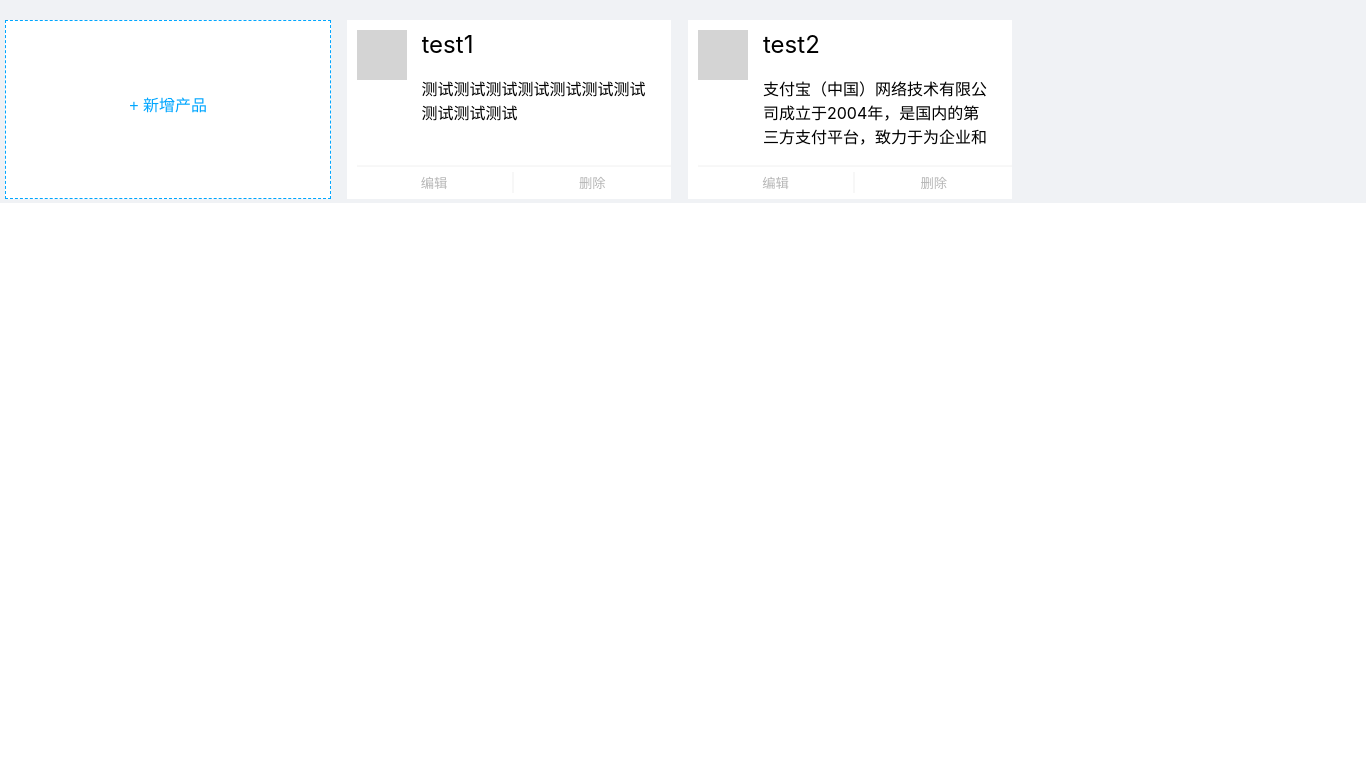
test productList component › should render add modal when click add button
This screenshot has width=1366, height=768.
Click the button with test id "add_btn". click: (168, 104)
box: top-left (129, 92), bottom-right (207, 116)
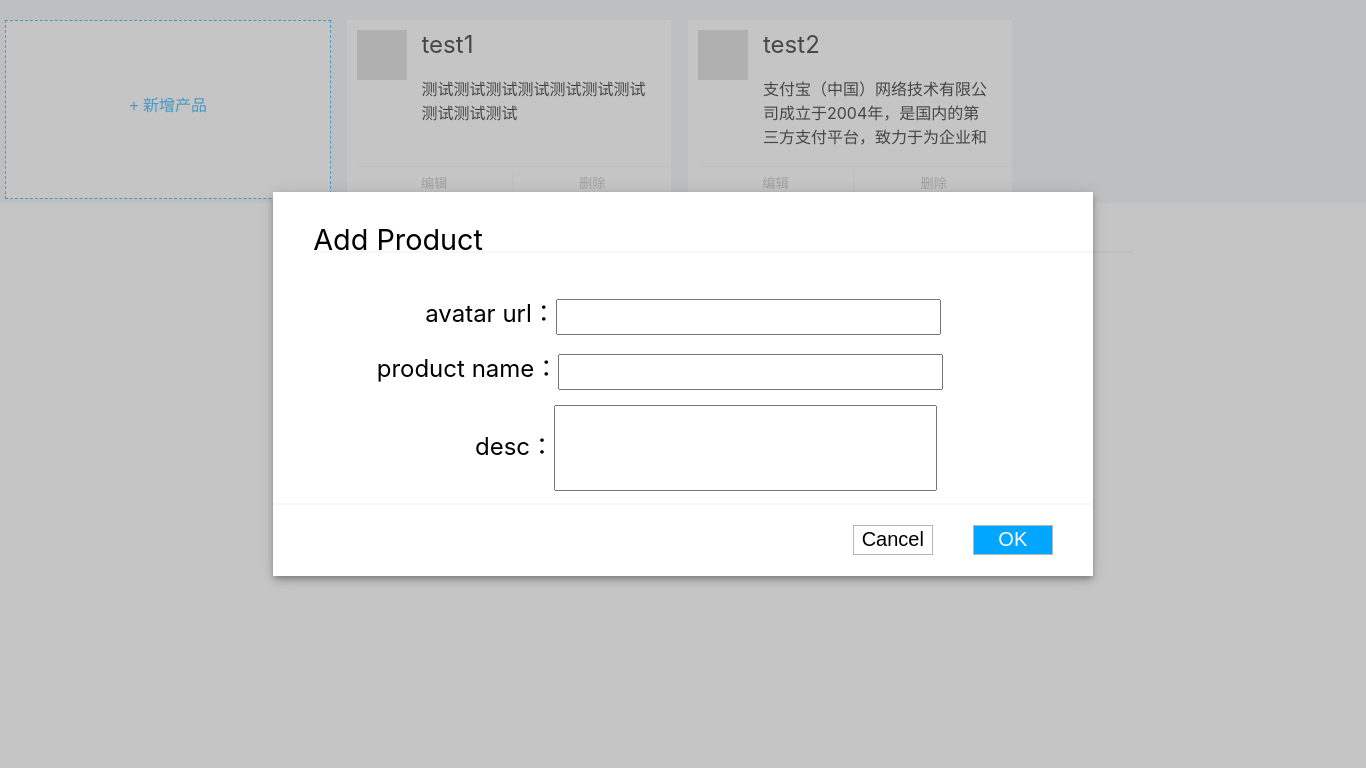
Expected: the text "Add Product" is shown, top-left (313, 222), bottom-right (1133, 253)
